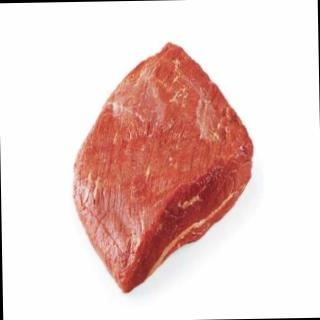Daging Sapi: (72, 43, 255, 295)
